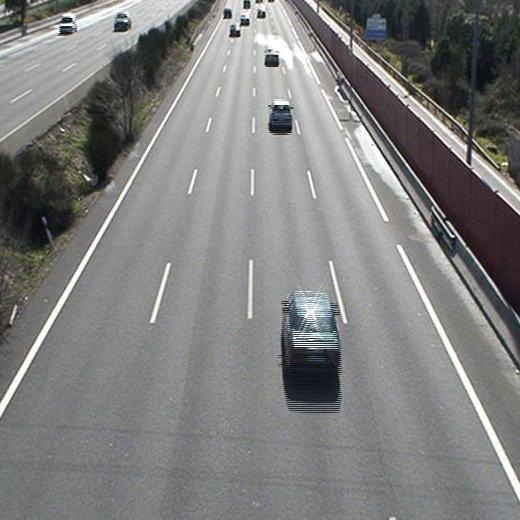car: (280, 291, 342, 377), (268, 100, 292, 132), (265, 47, 279, 66), (228, 23, 241, 36), (238, 13, 250, 25)
